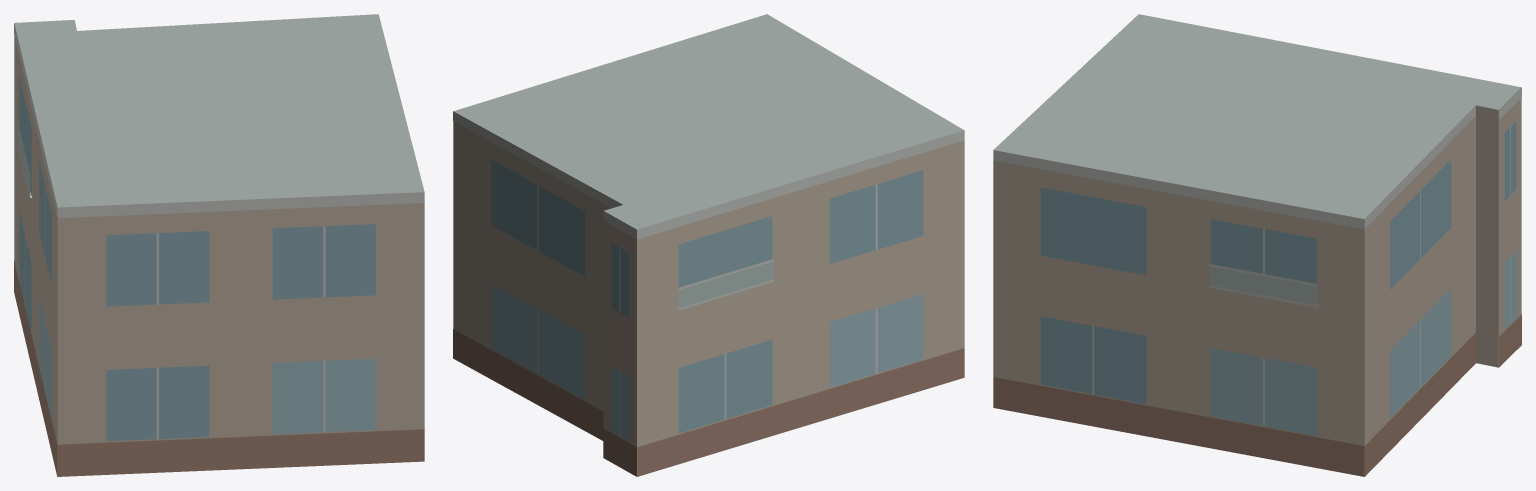
File: survey-upis-32508110.glb
3 views of the same model, side by side, from view 1: azimuth 30°, elevation 25°; view 2: azimuth 150°, elevation 25°; view 3: azimuth 270°, elevation 25° (orthographic). The views are drawn at different scales.
Visible parts, largest first — view 1: survey-upis-32508110.tmp; view 2: survey-upis-32508110.tmp; view 3: survey-upis-32508110.tmp.
Part boxes in pixels (<box>): survey-upis-32508110.tmp: <box>14,14,424,476</box>; survey-upis-32508110.tmp: <box>453,14,964,476</box>; survey-upis-32508110.tmp: <box>993,14,1521,476</box>.
Size of the model in its own units: 10.42 by 6.1 by 11.35.
